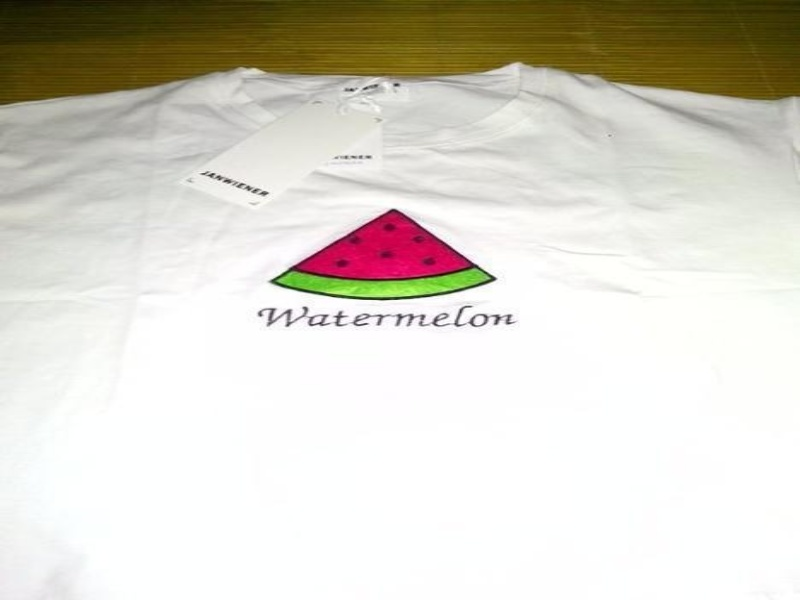short_sleeved_shirt: (2, 60, 798, 599)
